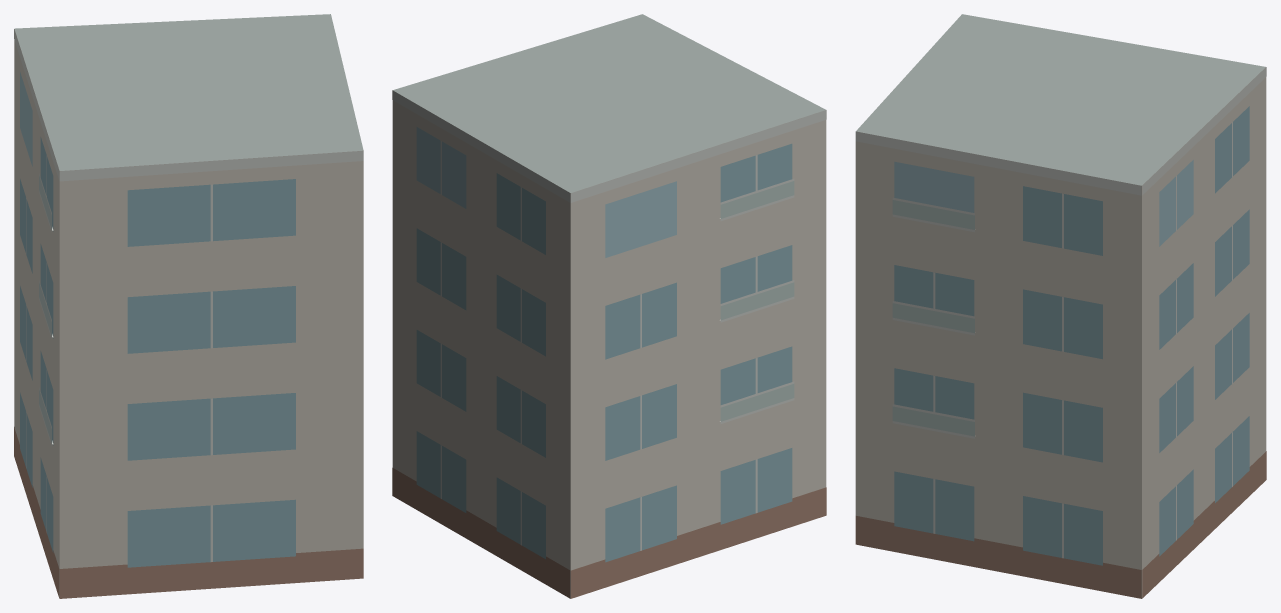
File: survey-upis-32963025.glb
3 views of the same model, side by side, from view 1: azimuth 30°, elevation 25°; view 2: azimuth 150°, elevation 25°; view 3: azimuth 270°, elevation 25° (orthographic). The views are drawn at different scales.
Visible parts, largest first — view 1: survey-upis-32963025.tmp; view 2: survey-upis-32963025.tmp; view 3: survey-upis-32963025.tmp.
Boxes of the visible parts, box(x1,y1,x2,y2) form: survey-upis-32963025.tmp: box(14, 14, 363, 598); survey-upis-32963025.tmp: box(392, 14, 826, 598); survey-upis-32963025.tmp: box(855, 14, 1266, 598).
Bounding box in the file's own units: 9.02 × 10.1 × 9.11.
